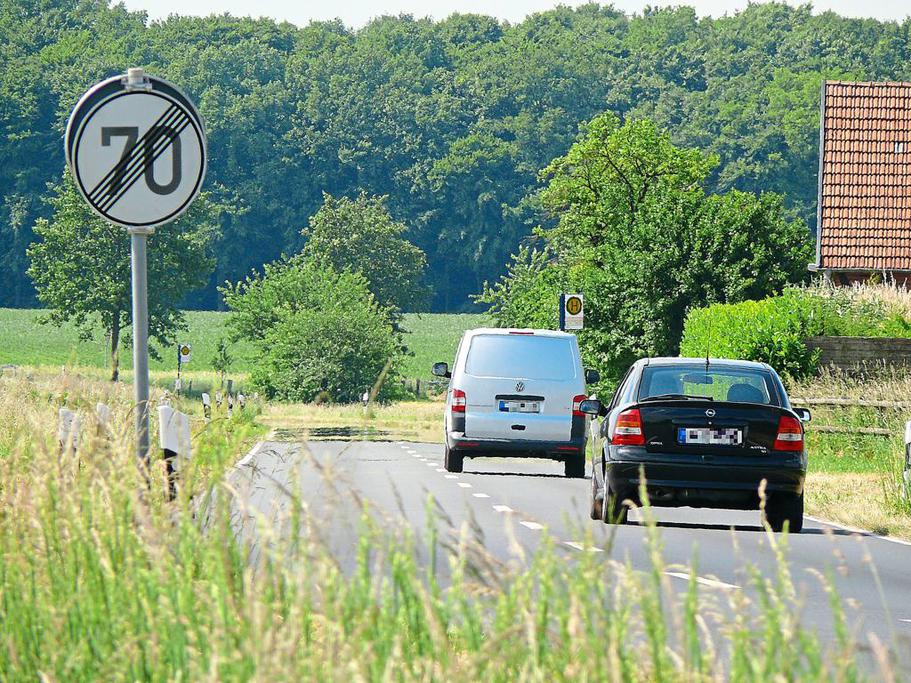aufgehoben: (72, 91, 209, 225)
